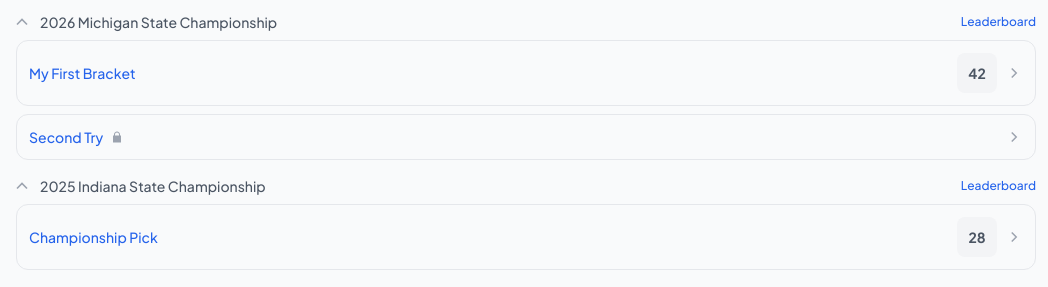
Test: MyBracketsTable › collapsible behavior › collapses tournament when header is clicked
This screenshot has width=1048, height=287.
What coordinates should you click on to do the following:
click the button "2026 Michigan State Championship"
I would click on:
 (145, 22)
Its box is [12, 12, 277, 32].
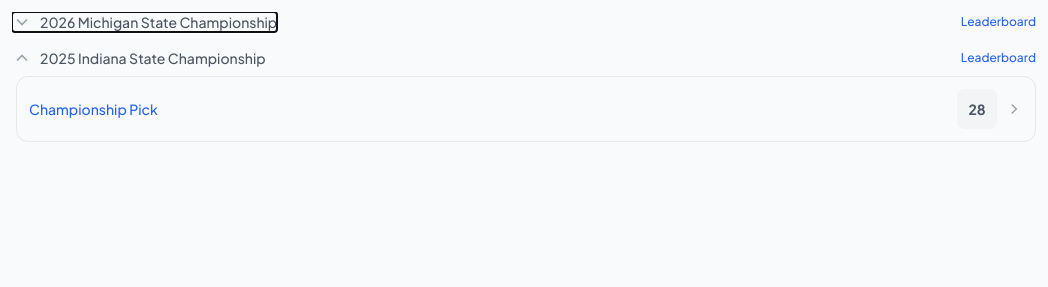
Expected: the heading "Championship Pick" is shown, [29, 99, 158, 119]
Result: the link "My First Bracket" is gone
Result: the link "Second Try" is gone
